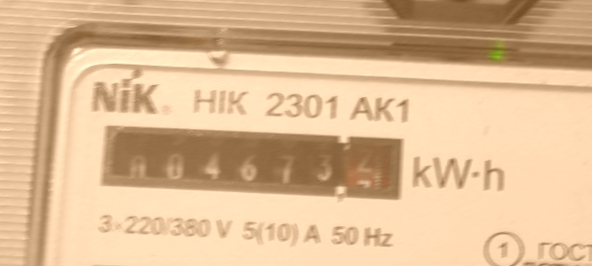0: (126, 147, 147, 178), (164, 147, 183, 179)
2: (353, 140, 375, 173)
3: (314, 147, 333, 182)
4: (202, 145, 222, 181)
6: (236, 146, 259, 181)
7: (274, 148, 297, 186)
screen: (95, 117, 407, 207)
